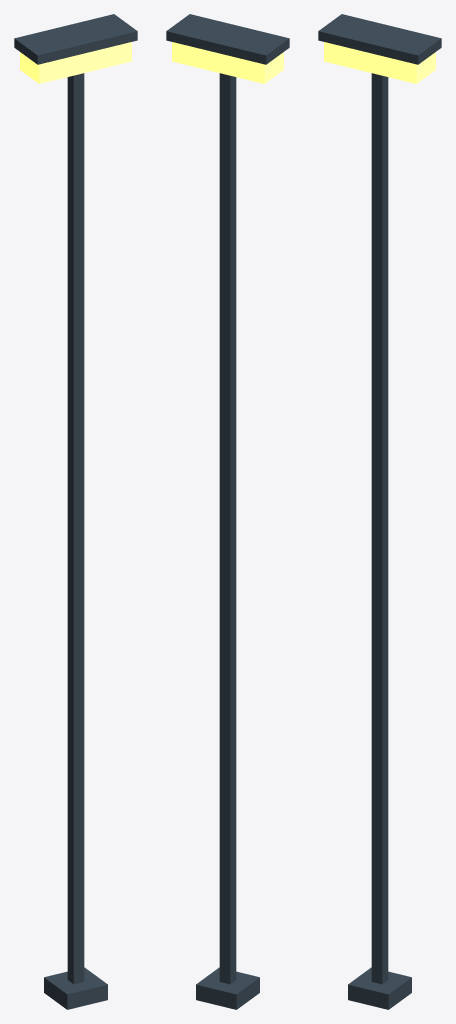
Rendered from lampadaire.gltf.
3 views of the same model, side by side, from view 1: azimuth 30°, elevation 25°; view 2: azimuth 150°, elevation 25°; view 3: azimuth 330°, elevation 25° (orthographic).
Size of the model in its own units: 1.35 by 12.42 by 0.55.
